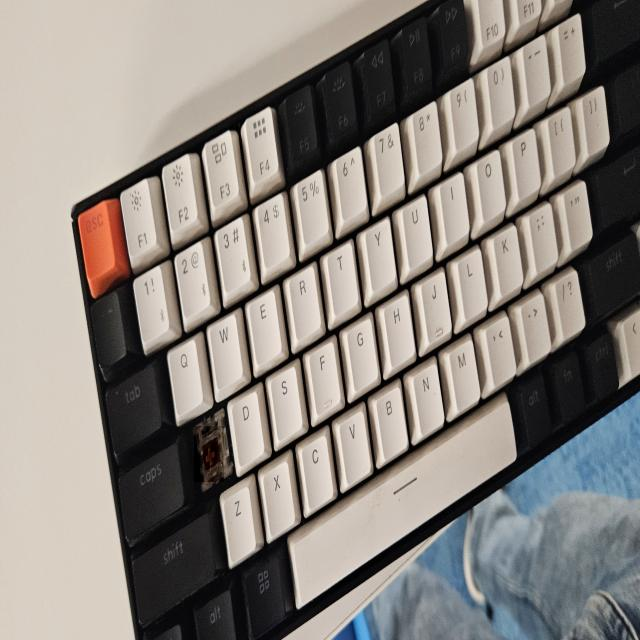C: (194, 427, 224, 482)
